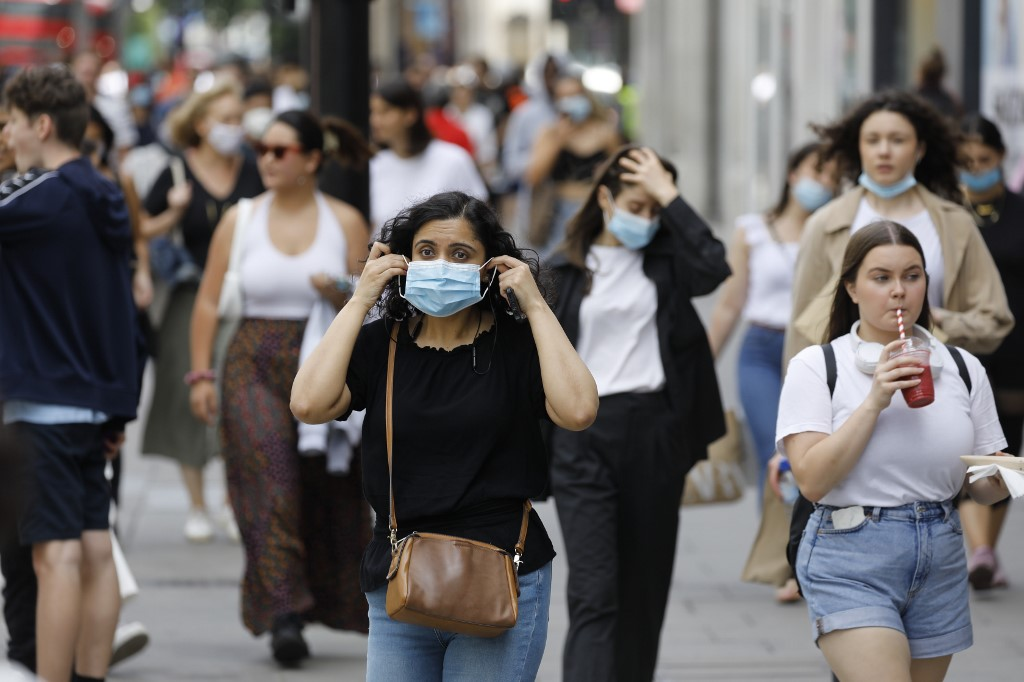with_incorrect_mask: (857, 109, 920, 199)
with_mask: (415, 226, 480, 311), (609, 180, 665, 254), (203, 95, 248, 157)
without_mask: (860, 256, 928, 338), (253, 121, 299, 185), (4, 106, 47, 170)
